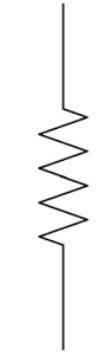resistor: (19, 80, 95, 279)
